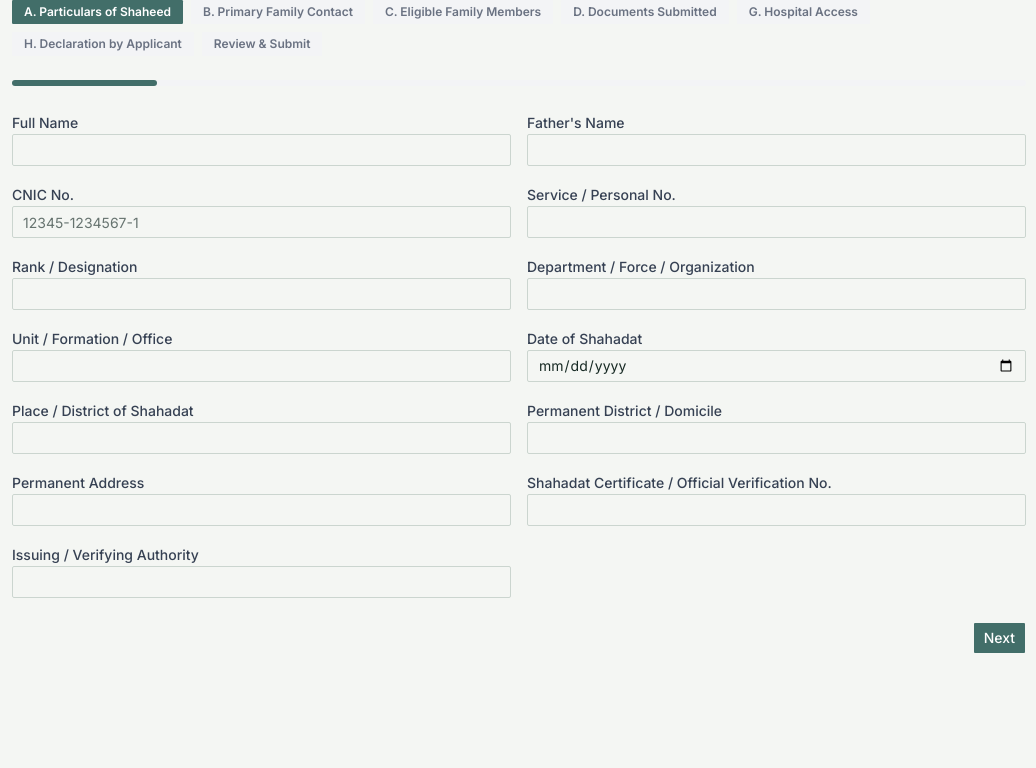
Test case: FamilyForm › CNIC mask formats input
In the field labelled "Full Name": x=262, y=150 left=12, top=134, right=511, bottom=166, type "Demo Shaheed"
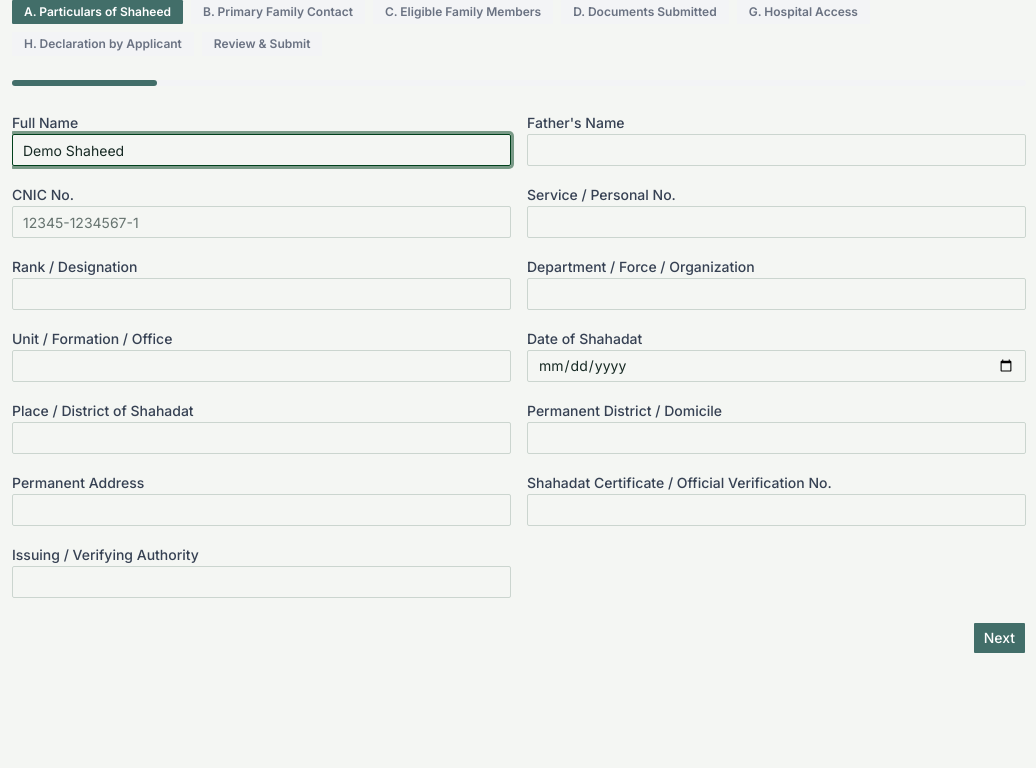
Click the button "Next": x=999, y=638 left=973, top=622, right=1026, bottom=654
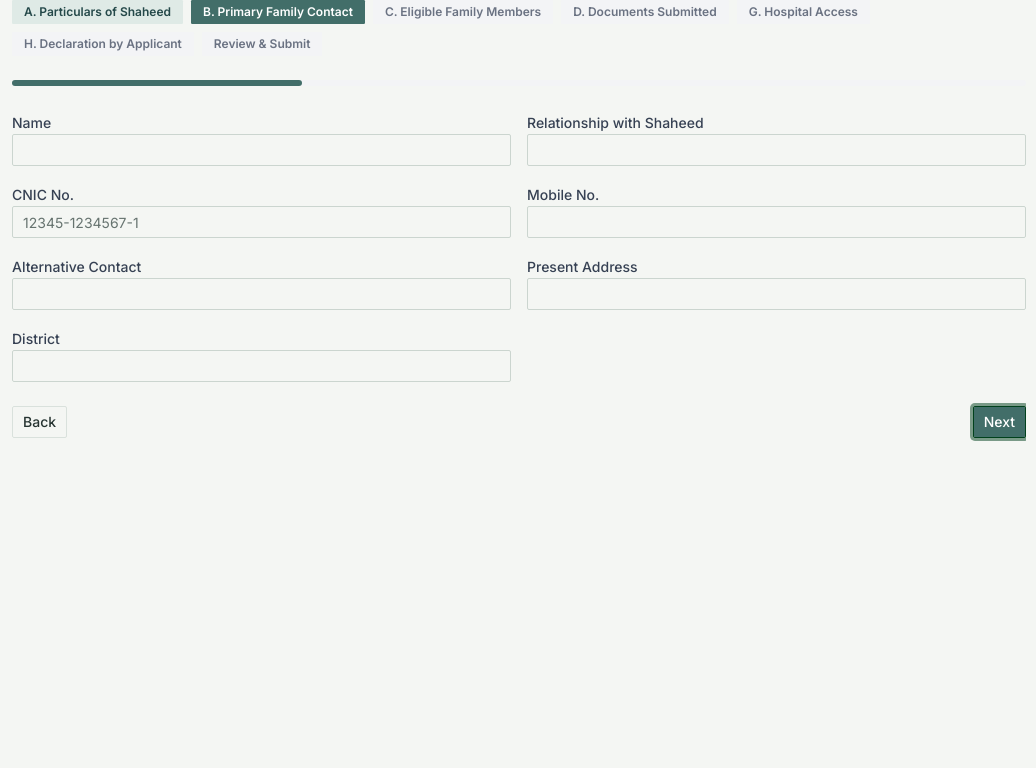
In the field labelled "CNIC No.": x=262, y=222 left=12, top=206, right=511, bottom=238, type "1234512345671"
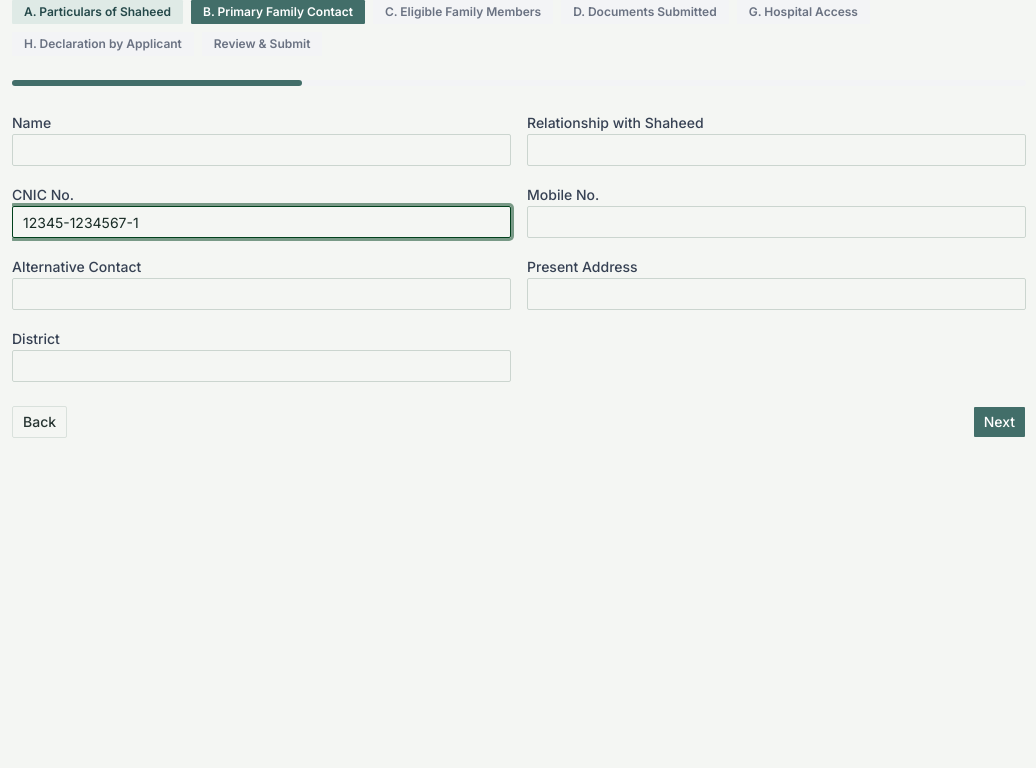
Now the field labelled "CNIC No." holds "12345-1234567-1", box left=12, top=206, right=511, bottom=238
